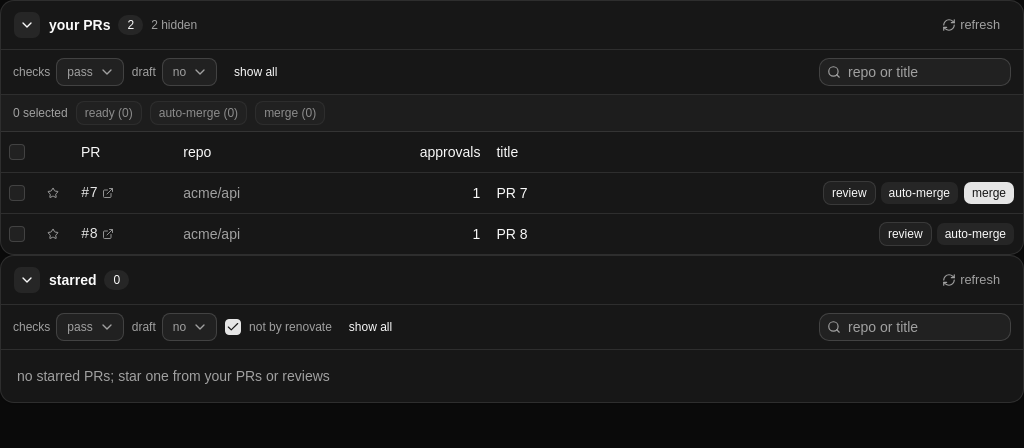
it: PrTable › stars a PR into the starred table, without your PR actions
This screenshot has width=1024, height=448.
Expected: the text "no starred PRs; star one from your PRs or reviews" is shown, [17, 368, 330, 384]
Expected: the text "PR 7" is shown, [488, 172, 587, 213]
Click the button named "star acme/api#7" at coordinates (53, 192), box [41, 180, 65, 204]
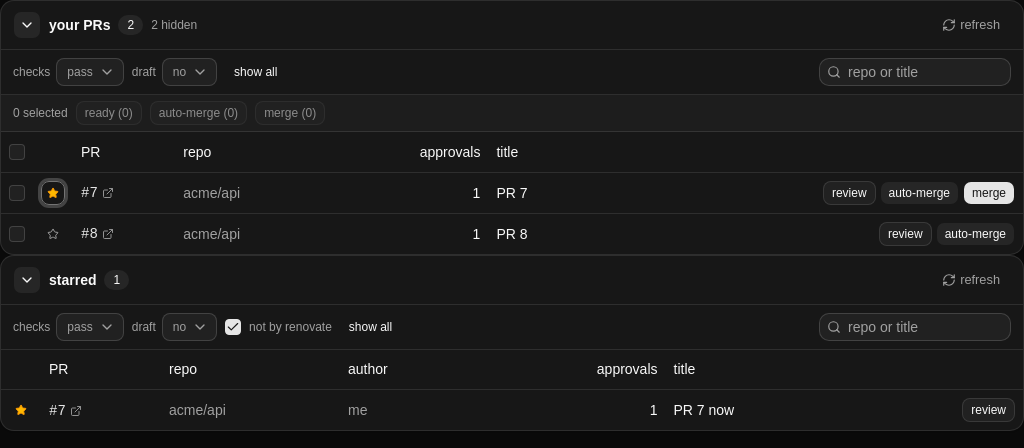
Expected: the text "PR 7 now" is shown, [666, 390, 854, 430]
